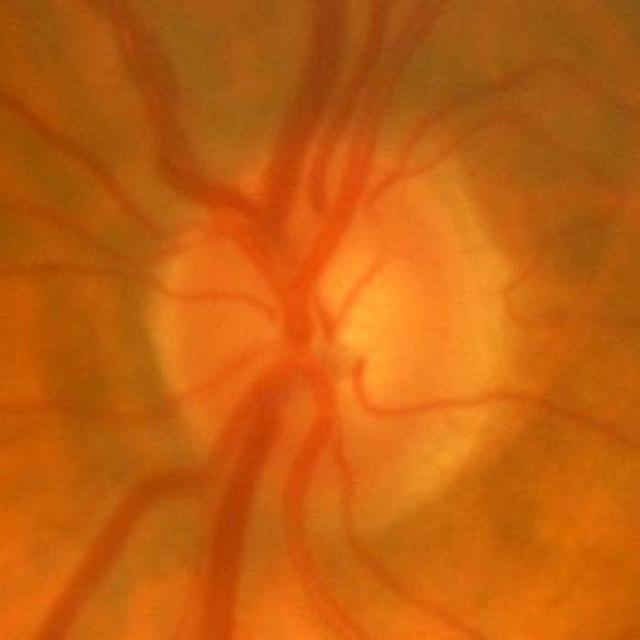OC: (272, 255, 400, 378)
OD: (149, 141, 509, 521)
